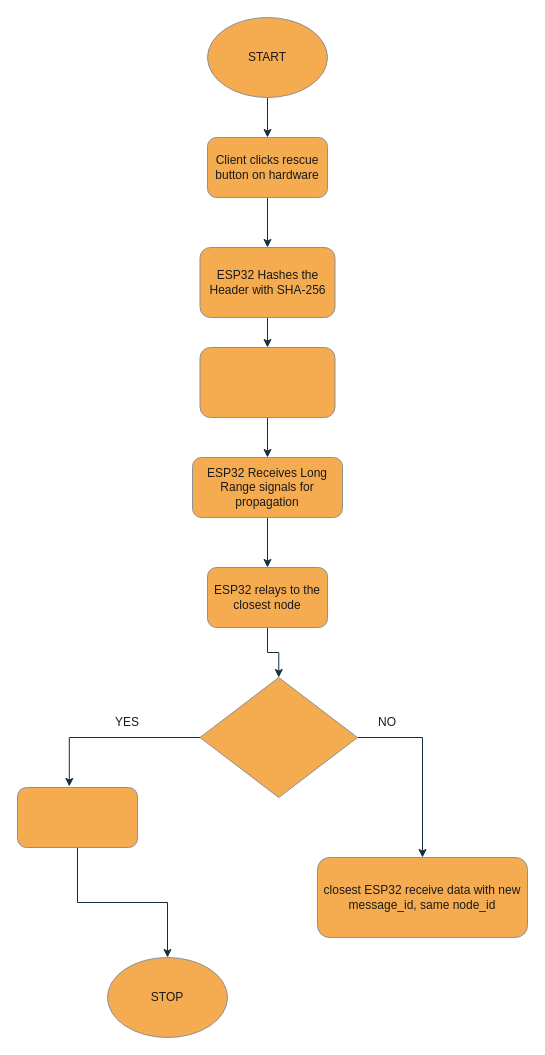
This 545x1055 diagram has some shape labels left out. The shapes that lost their labels are listed below. From the top down, each one's centre as x and y in pixels, then its label:
At (267,382): "ESP32 Hashes the Body with HMAC-SHA256".
At (278,737): "Closest node == Rescue node".
At (77,817): "Send request to /api".
